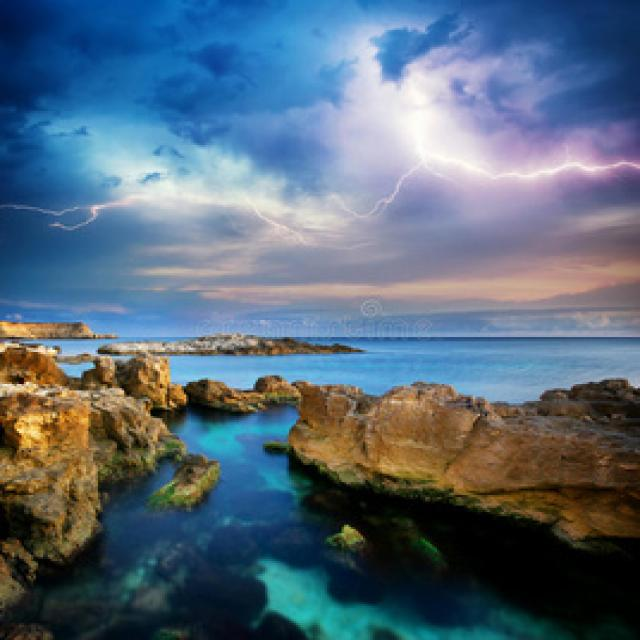reef: (94, 370, 462, 530)
